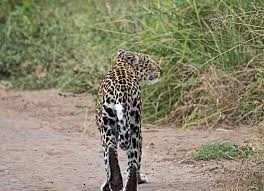leopard: (92, 46, 163, 191)
